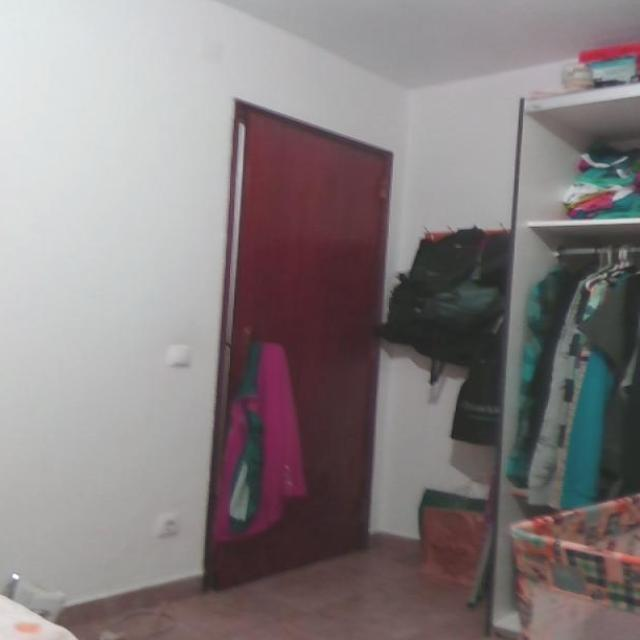door: (201, 96, 393, 591)
